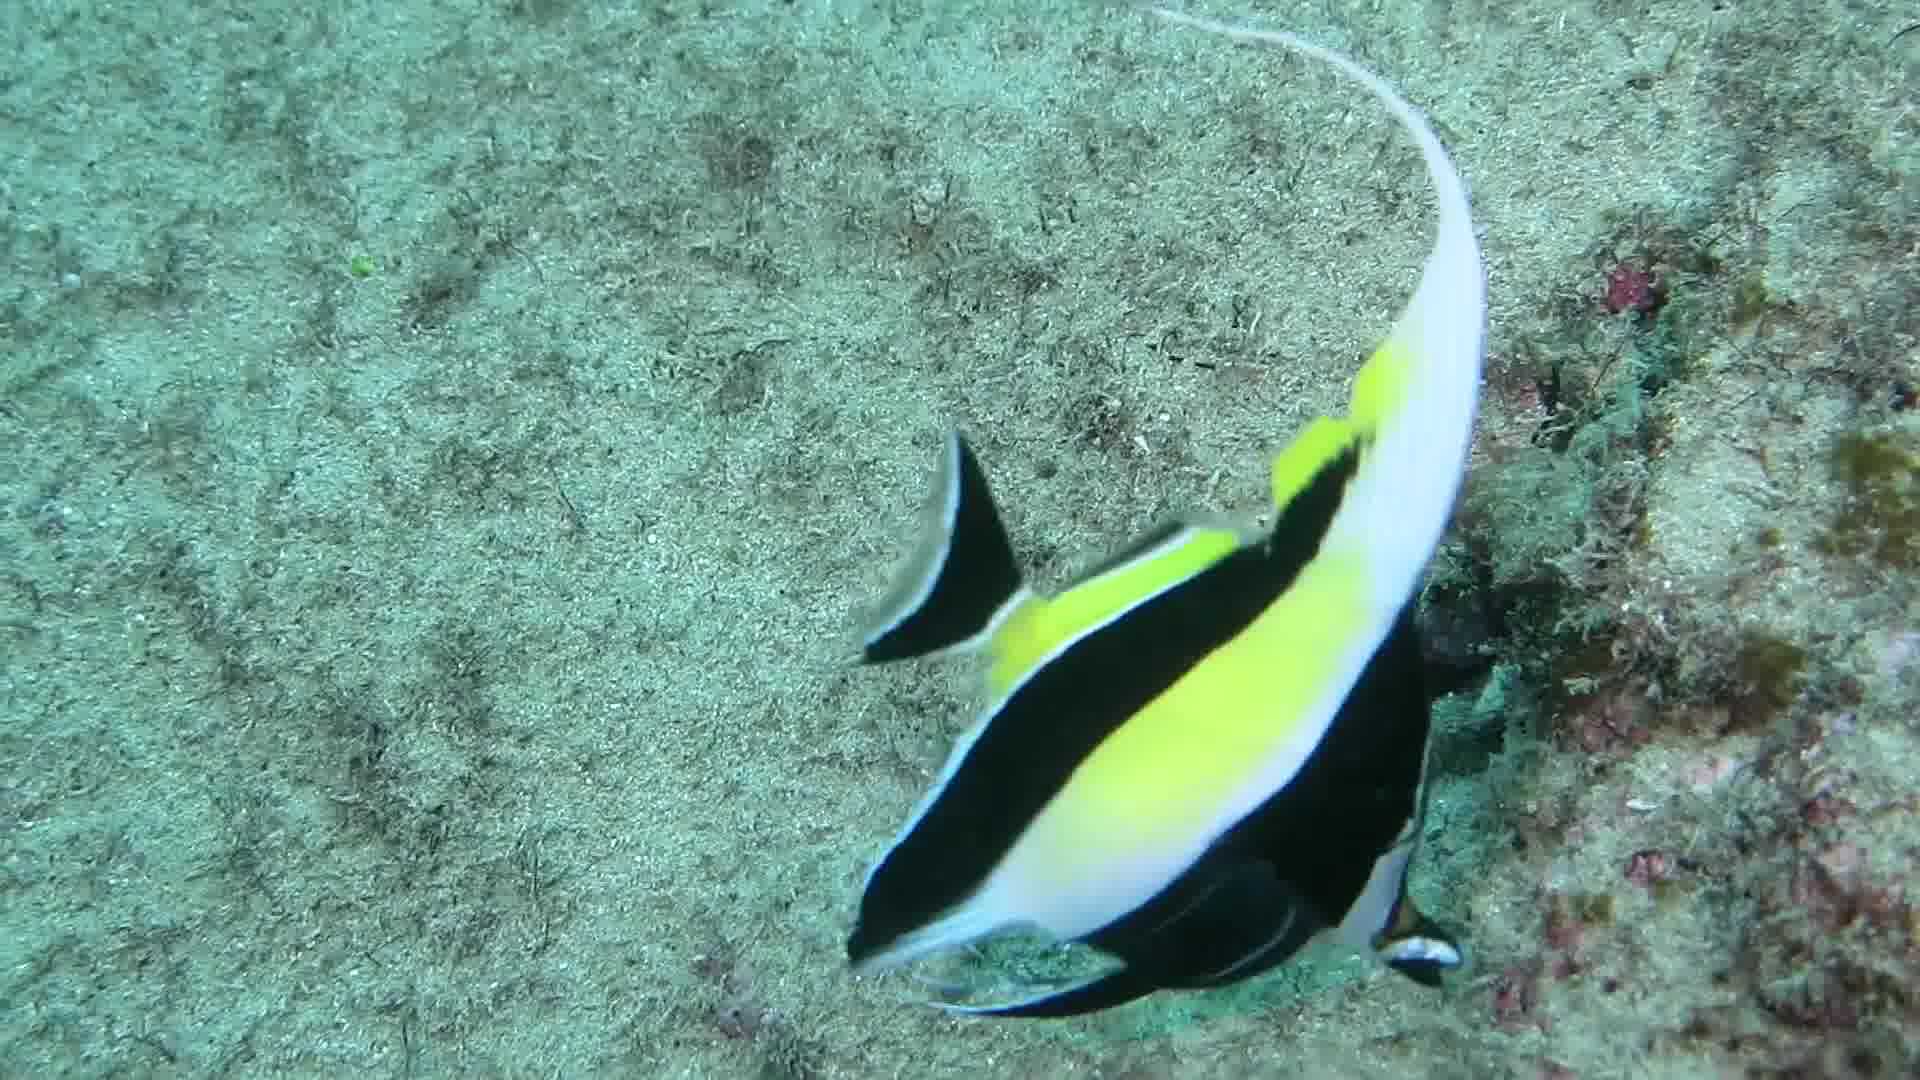Zanclus cornutus: (807, 389, 1572, 1014)
